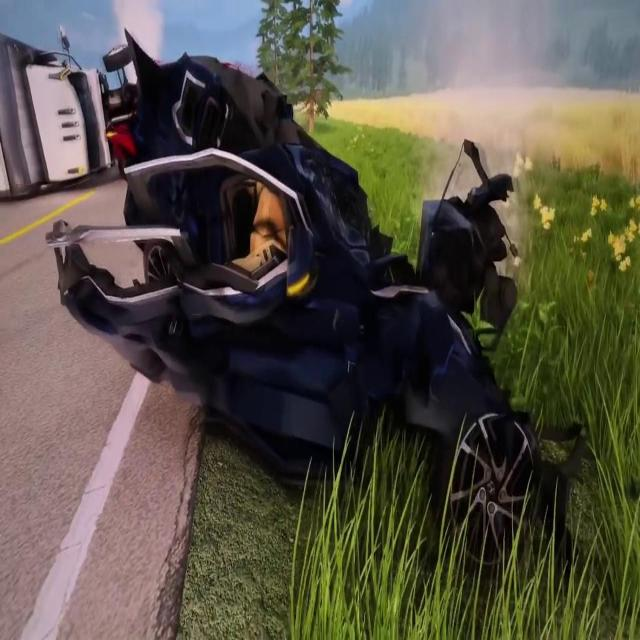severe: (48, 25, 564, 566), (0, 15, 130, 190)
